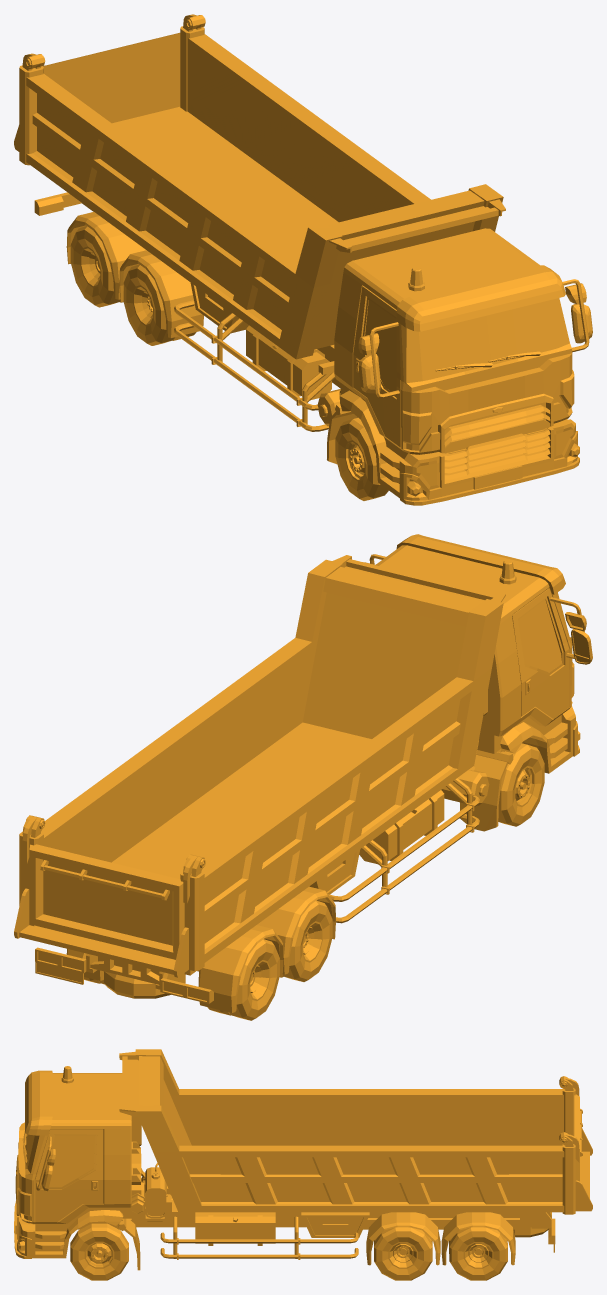
Rendered from SM_Car_Truck_Modern_Dump.fbx.
3 renders of one model, top to bottom at view 1: azimuth 30°, elevation 25°; view 2: azimuth 150°, elevation 25°; view 3: azimuth 270°, elevation 25°, orthographic. The views are drawn at different scales.
Visible parts, largest first — view 1: truck-modern-dump-platform, truck-modern-dump-base, truck-modern-dump-door, truck-modern-dump-door-rfr, truck-modern-dump-wheel-rfr, truck-modern-dump-wheel-rmi, truck-modern-dump-wheel-rba, truck-modern-dump-door-lfr; view 2: truck-modern-dump-platform, truck-modern-dump-base, truck-modern-dump-door, truck-modern-dump-door-rfr, truck-modern-dump-wheel-rfr, truck-modern-dump-wheel-rba, truck-modern-dump-wheel-rmi; view 3: truck-modern-dump-platform, truck-modern-dump-base, truck-modern-dump-door-lfr, truck-modern-dump-wheel-lfr, truck-modern-dump-wheel-lba, truck-modern-dump-wheel-lmi, truck-modern-dump-door.
Boxes of the visible parts, x1,y1,x2,y2 form: truck-modern-dump-platform: (14, 15, 505, 359); truck-modern-dump-base: (34, 192, 579, 505); truck-modern-dump-door: (22, 14, 200, 123); truck-modern-dump-door-rfr: (353, 286, 401, 447); truck-modern-dump-wheel-rfr: (335, 417, 388, 500); truck-modern-dump-wheel-rmi: (123, 264, 196, 345); truck-modern-dump-wheel-rba: (70, 226, 120, 307); truck-modern-dump-door-lfr: (562, 279, 592, 352); truck-modern-dump-platform: (14, 555, 505, 977); truck-modern-dump-base: (35, 534, 580, 1012); truck-modern-dump-door: (22, 816, 198, 959); truck-modern-dump-door-rfr: (512, 588, 592, 718); truck-modern-dump-wheel-rfr: (498, 743, 544, 826); truck-modern-dump-wheel-rba: (207, 939, 279, 1020); truck-modern-dump-wheel-rmi: (282, 900, 332, 981); truck-modern-dump-platform: (119, 1049, 592, 1214); truck-modern-dump-base: (14, 1066, 555, 1270); truck-modern-dump-door-lfr: (35, 1129, 103, 1222); truck-modern-dump-wheel-lfr: (70, 1223, 128, 1280); truck-modern-dump-wheel-lba: (449, 1227, 507, 1280); truck-modern-dump-wheel-lmi: (374, 1227, 432, 1280); truck-modern-dump-door: (559, 1077, 582, 1181).
Size of the model in its own units: 3.28 by 3.28 by 9.99.
